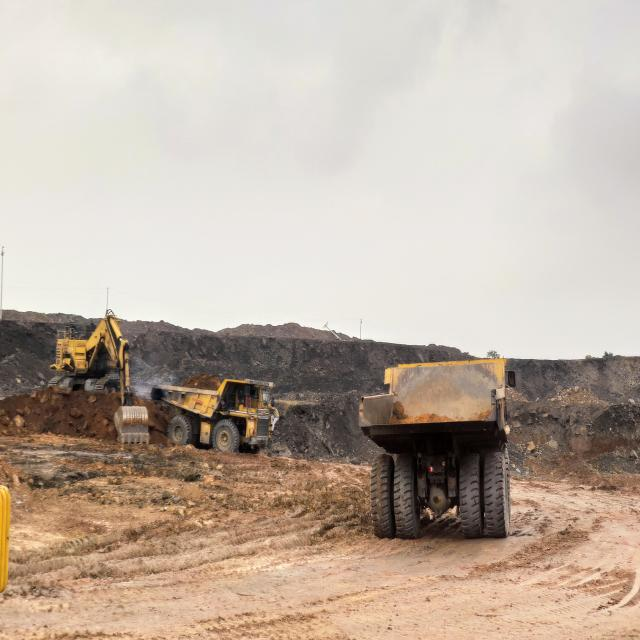dump_truck: (361, 361, 511, 542), (139, 379, 276, 455)
excavator: (36, 296, 155, 470)
